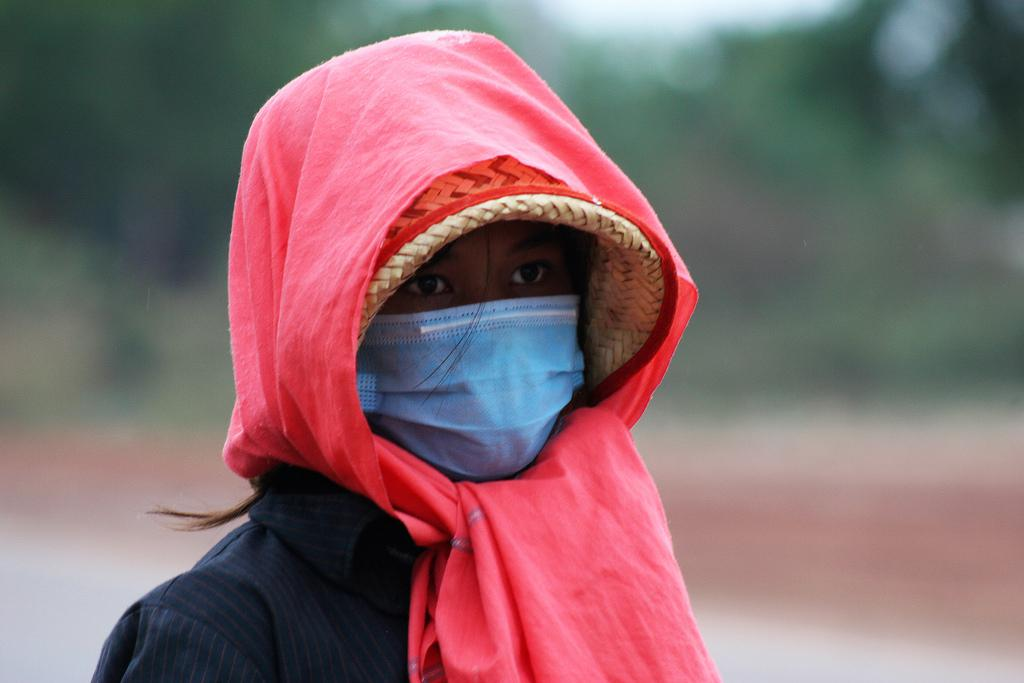OK: (365, 228, 573, 477)
